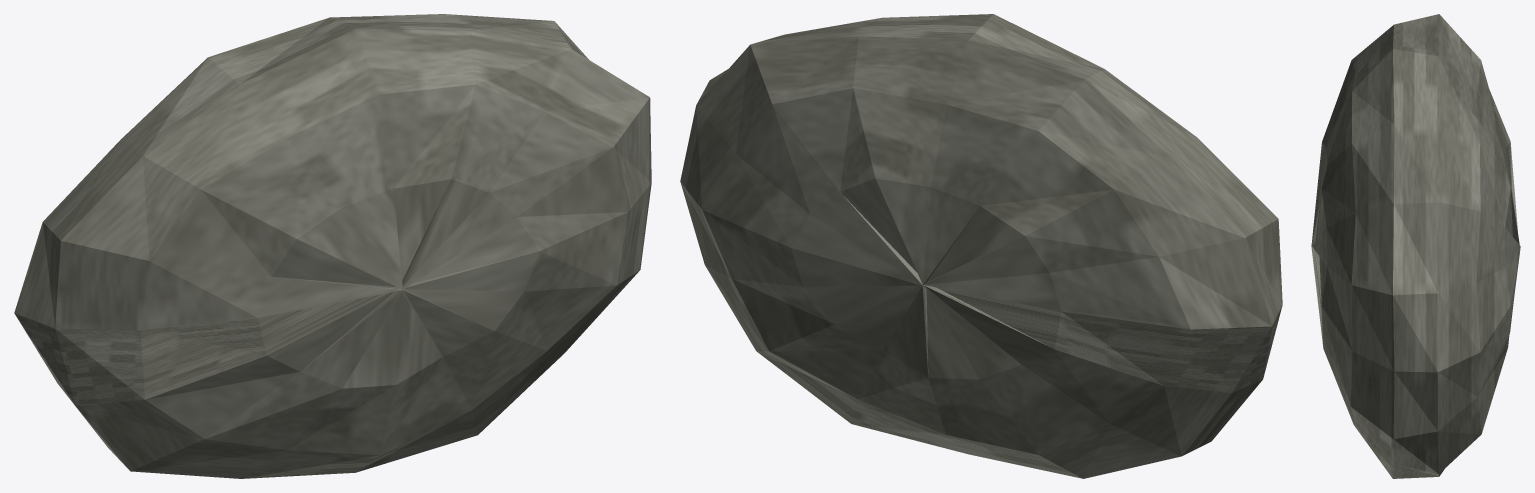
Rendered from SM_ShPathStone.obj.
3 views of the same model, side by side, from view 1: azimuth 30°, elevation 25°; view 2: azimuth 150°, elevation 25°; view 3: azimuth 270°, elevation 25° (orthographic). The views are drawn at different scales.
Visible parts, largest first — view 1: SM_ShPathStone; view 2: SM_ShPathStone; view 3: SM_ShPathStone.
Boxes of the visible parts, <box> form: SM_ShPathStone: <box>14,14,651,478</box>; SM_ShPathStone: <box>680,14,1282,478</box>; SM_ShPathStone: <box>1311,14,1520,478</box>.
Size of the model in its own units: 97.37 by 67.41 by 33.22.
1 material, 1 textured.
